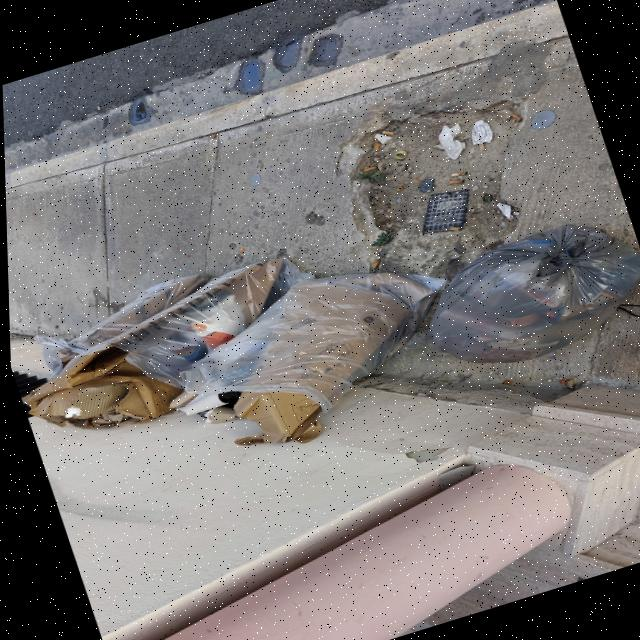Mixed Waste -Black Bag-: (394, 190, 640, 394)
Recycled Waste -Grey or Green Bag-: (145, 225, 472, 475), (7, 246, 337, 454), (16, 267, 224, 379)
